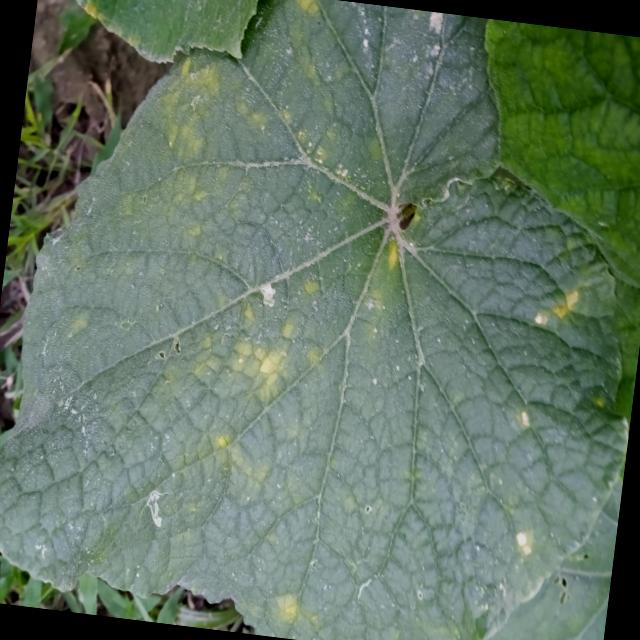cucumber_downy: (0, 0, 627, 640), (36, 0, 272, 87)
